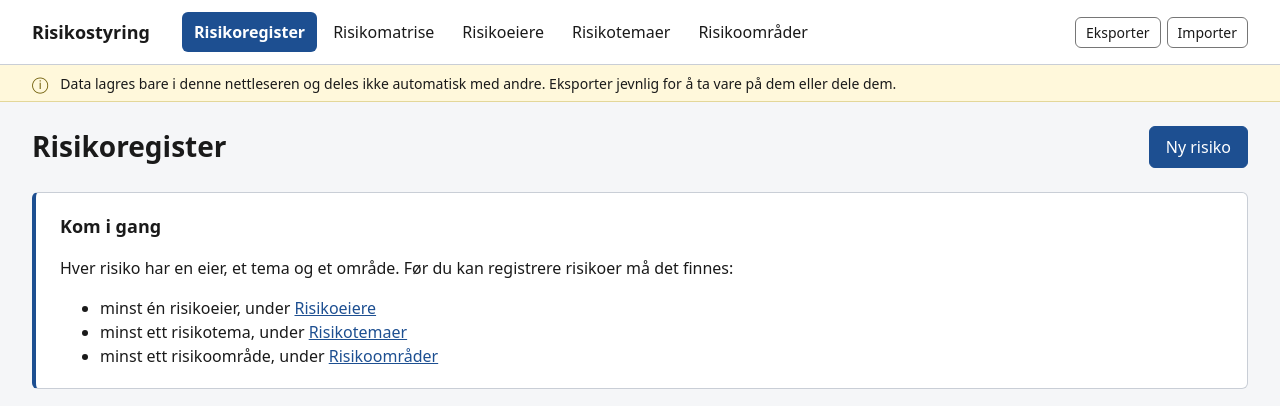
Test: veiledning før første risiko (K22) › leder videre til registeret som mangler
Check: the heading "Risikoregister" is shown, box x1=32 y1=130 x2=226 y2=164
Click the link "Risikotemaer" in the row of "minst ett risikotema" at (358, 332), box x1=309 y1=321 x2=407 y2=343
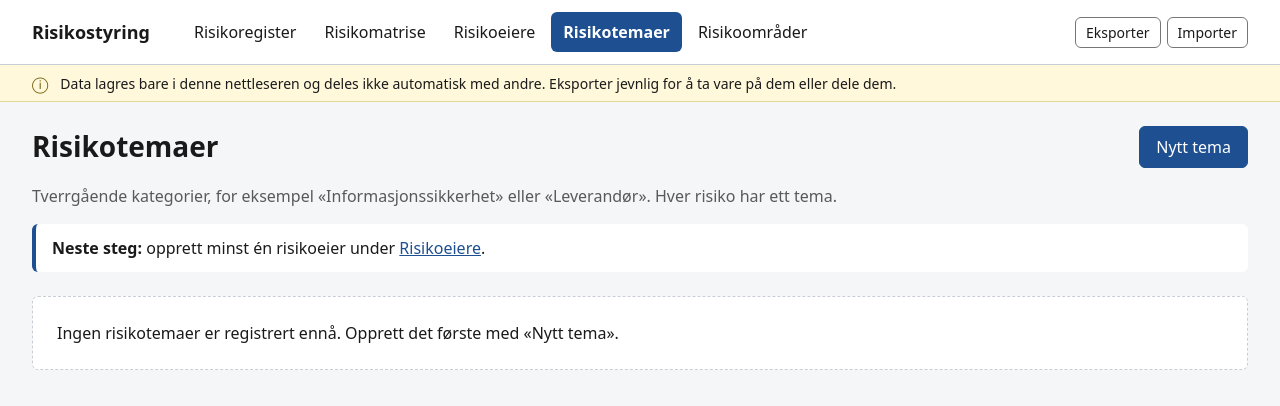
Check: the heading "Risikotemaer" is shown, box x1=32 y1=130 x2=218 y2=164
